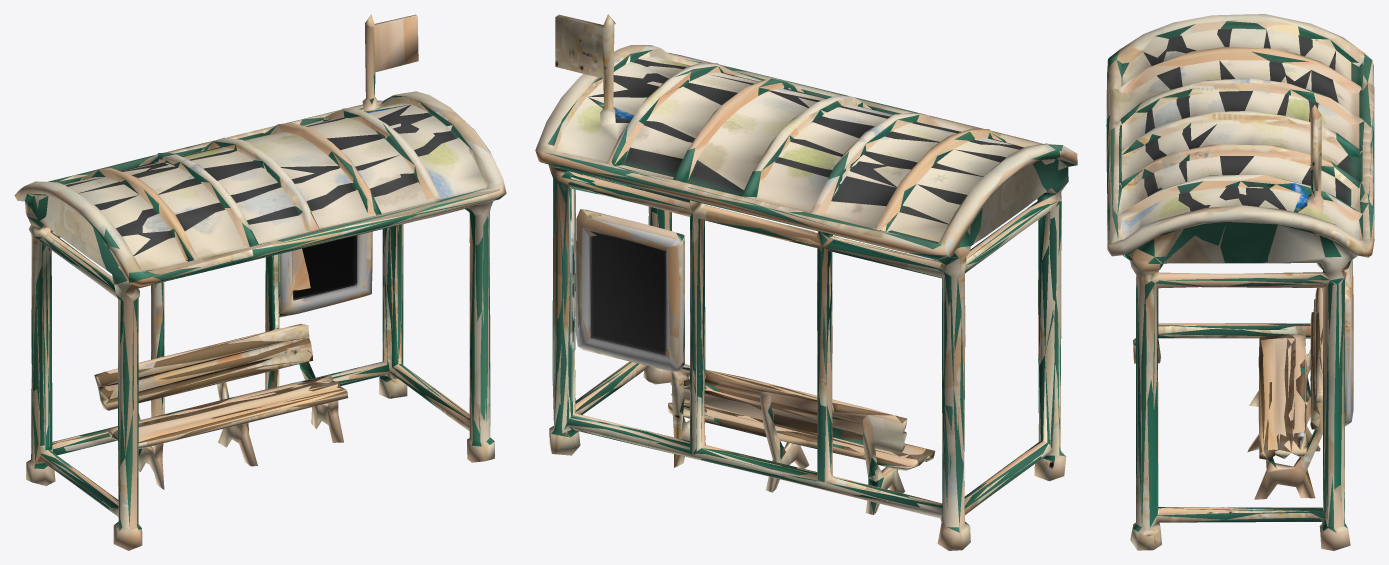
The model's file is durak.fbx.
3 renders of one model, left to right at view 1: azimuth 30°, elevation 25°; view 2: azimuth 150°, elevation 25°; view 3: azimuth 270°, elevation 25°, orthographic. The views are drawn at different scales.
Visible parts, largest first — view 1: Mesh_0, Mesh_0.001; view 2: Mesh_0, Mesh_0.001; view 3: Mesh_0, Mesh_0.001.
Part boxes in pixels (x1,y1,x2,y2): Mesh_0: (14, 14, 506, 550); Mesh_0.001: (25, 73, 505, 530); Mesh_0: (535, 14, 1077, 550); Mesh_0.001: (542, 50, 1077, 532); Mesh_0: (1106, 14, 1374, 550); Mesh_0.001: (1106, 21, 1374, 532).
Size of the model in its own units: 191 by 189 by 108.
